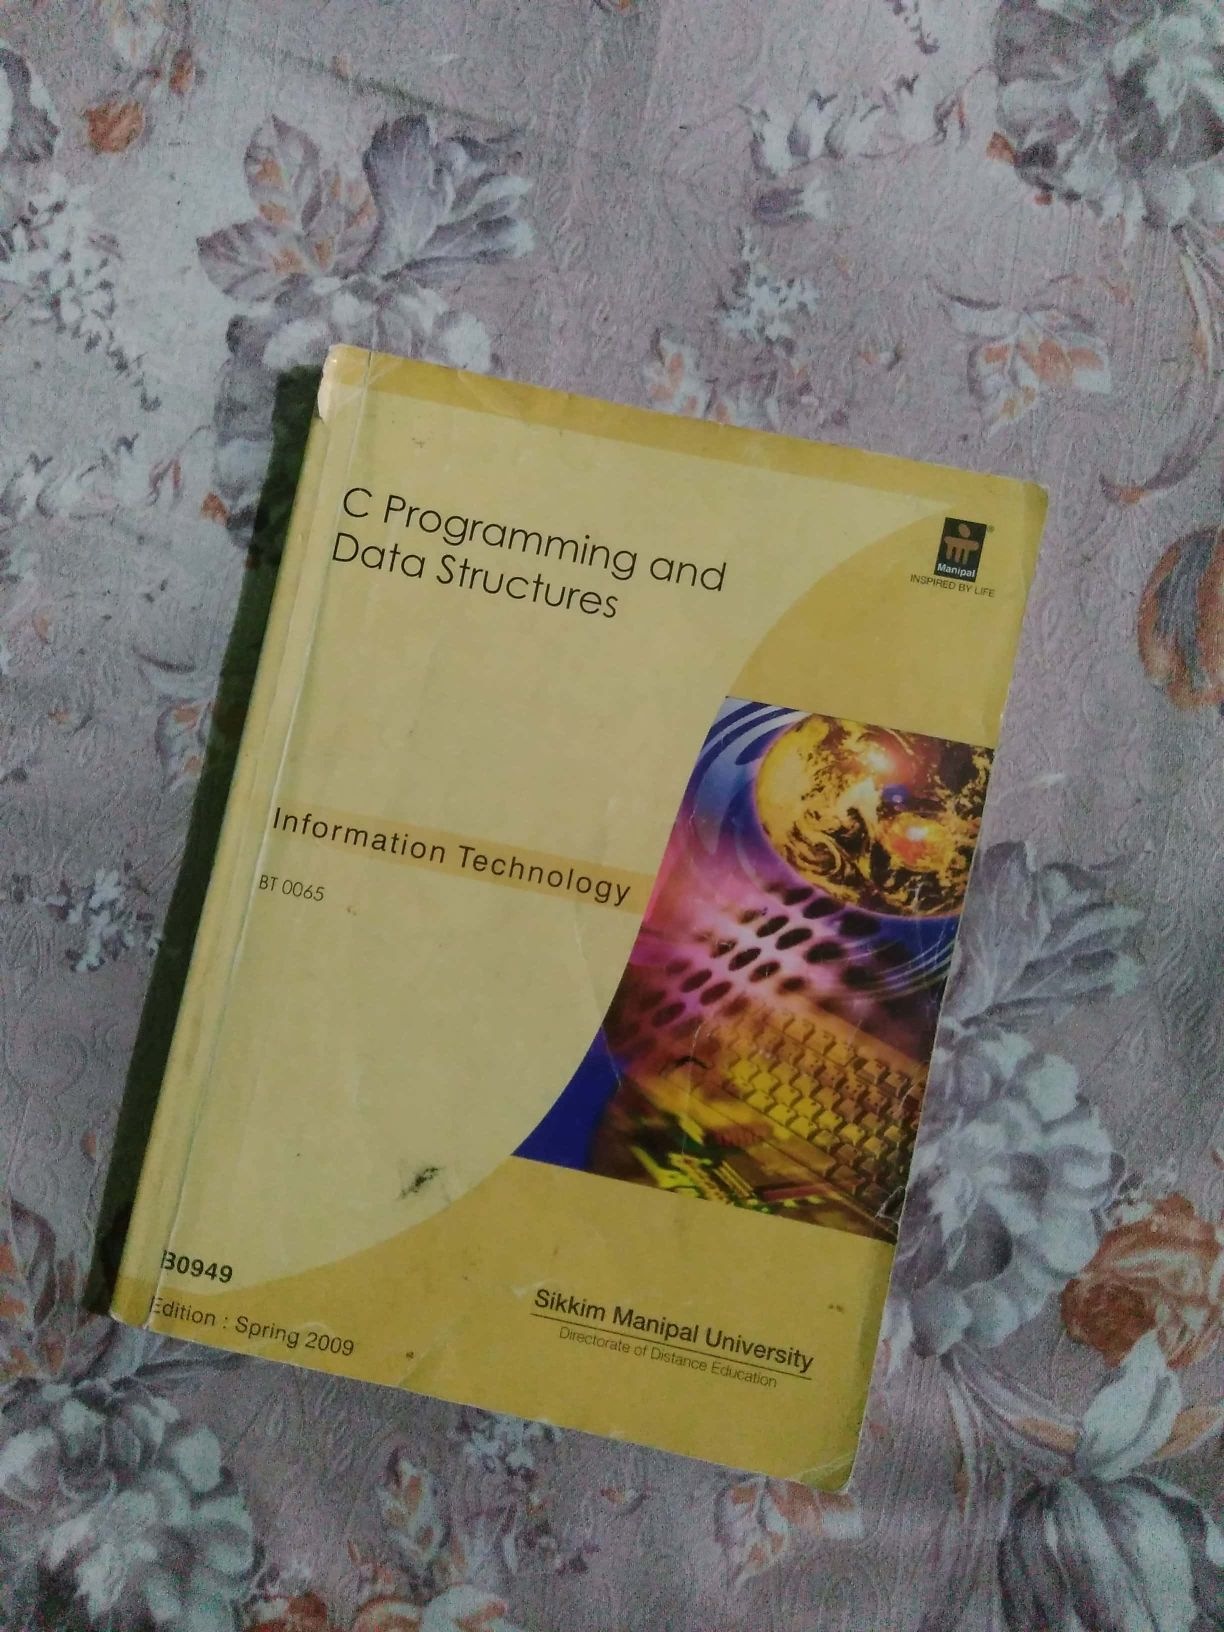clang: (132, 353, 1008, 1475)
